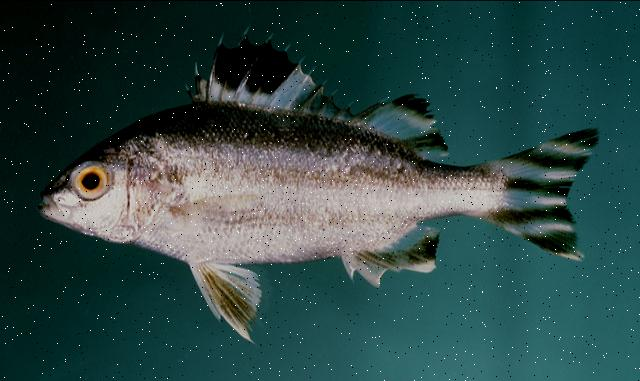Mulut: (29, 176, 80, 234)
Sirip Anal: (346, 216, 442, 292)
Sirip Dada: (166, 188, 274, 228)
Sirip Ekor: (500, 121, 608, 265)
Sirip Perut: (186, 255, 270, 348)
Sirip Punggung: (183, 15, 455, 157)
